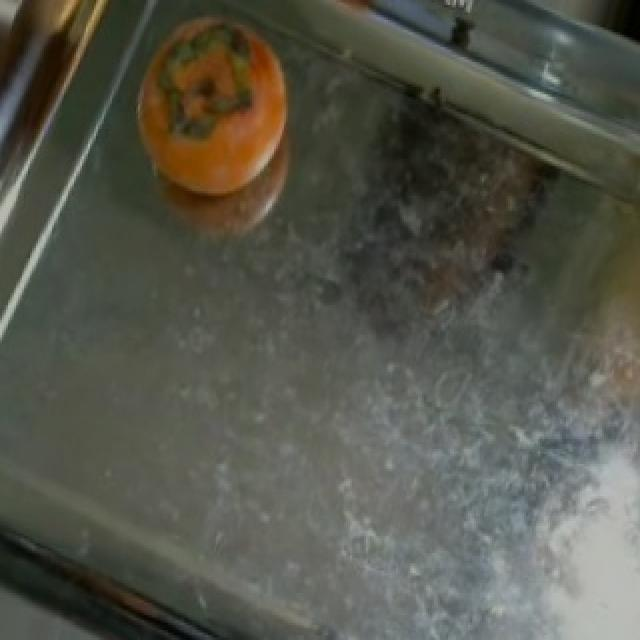Fruit: (108, 0, 318, 223)
